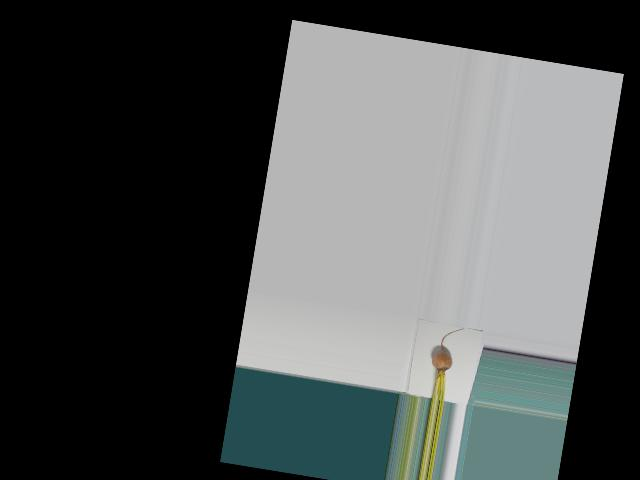beet: (425, 324, 463, 402)
